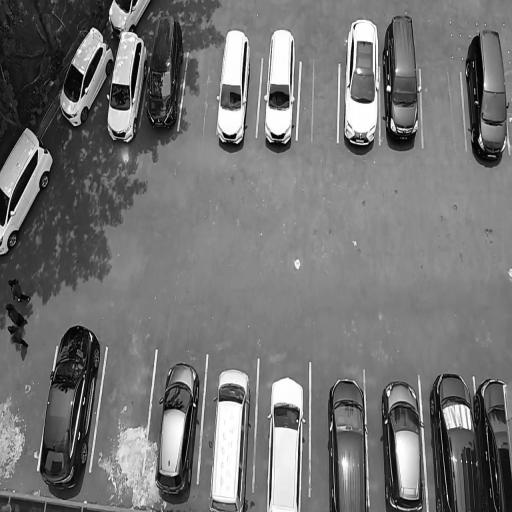Car: (37, 319, 100, 496), (431, 371, 484, 512), (0, 121, 55, 249), (465, 24, 512, 162), (156, 356, 200, 502), (381, 371, 426, 512), (209, 365, 252, 512), (325, 375, 370, 512), (384, 11, 423, 160), (58, 26, 113, 129), (343, 14, 383, 154), (266, 375, 306, 512), (474, 373, 512, 511), (145, 14, 182, 136), (216, 20, 249, 152), (107, 28, 143, 148), (263, 26, 296, 154), (107, 0, 151, 29)
Space Available: (91, 339, 155, 490), (422, 54, 463, 161), (296, 51, 337, 156), (178, 49, 221, 147)
